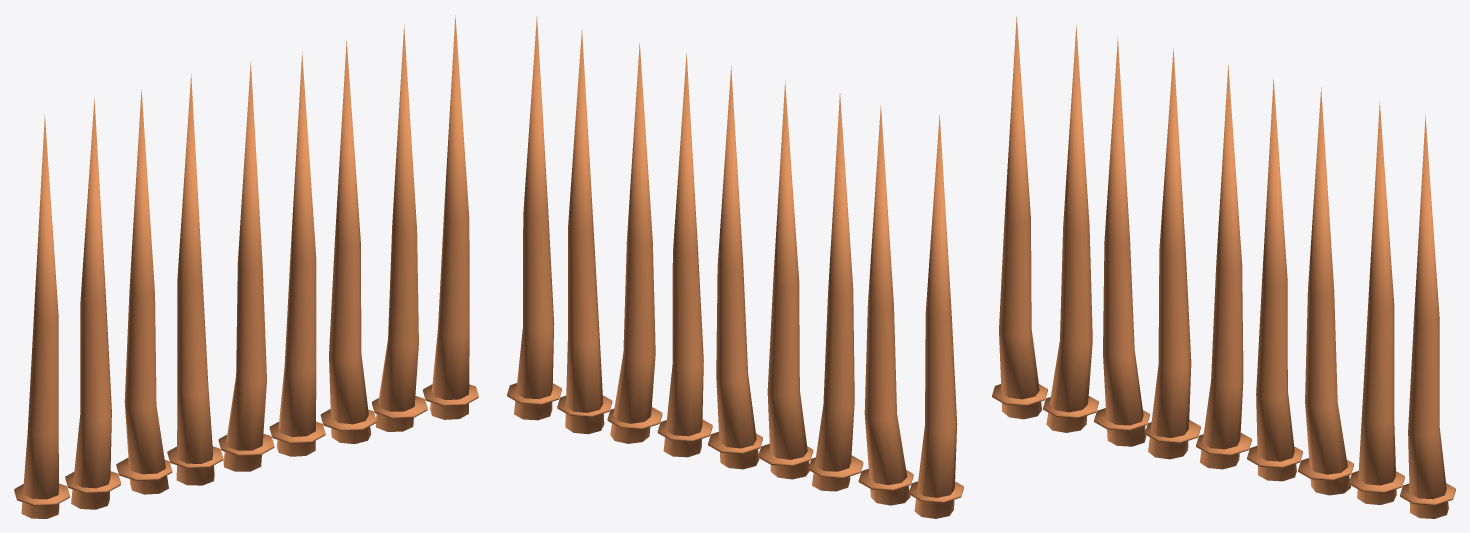
The model's file is pinchosp.obj.
3 renders of one model, left to right at view 1: azimuth 30°, elevation 25°; view 2: azimuth 150°, elevation 25°; view 3: azimuth 330°, elevation 25°, orthographic.
Parts seen in each view (by area): view 1: Cylinder075, Cylinder073, Cylinder070, Cylinder072, Cylinder071, Cylinder068, Cylinder074, Cylinder069, Cylinder076, Cylinder060, Cylinder065, Cylinder061 (+5 smaller); view 2: Cylinder076, Cylinder069, Cylinder070, Cylinder075, Cylinder072, Cylinder071, Cylinder073, Cylinder068, Cylinder074, Cylinder065, Cylinder064, Cylinder059 (+4 smaller); view 3: Cylinder073, Cylinder075, Cylinder070, Cylinder074, Cylinder076, Cylinder072, Cylinder069, Cylinder068, Cylinder071, Cylinder060, Cylinder062, Cylinder067 (+5 smaller).
Boxes of the visible parts, x1=… form: Cylinder075: x1=71, y1=97, x2=111, y2=509; Cylinder073: x1=176, y1=73, x2=214, y2=485; Cylinder070: x1=329, y1=41, x2=371, y2=444; Cylinder072: x1=223, y1=61, x2=266, y2=471; Cylinder071: x1=276, y1=51, x2=316, y2=456; Cylinder068: x1=430, y1=15, x2=469, y2=419; Cylinder074: x1=124, y1=89, x2=168, y2=494; Cylinder069: x1=375, y1=24, x2=418, y2=431; Cylinder076: x1=21, y1=114, x2=59, y2=518; Cylinder060: x1=372, y1=396, x2=427, y2=418; Cylinder065: x1=116, y1=458, x2=172, y2=481; Cylinder061: x1=320, y1=409, x2=376, y2=431; Cylinder076: x1=914, y1=115, x2=957, y2=518; Cylinder069: x1=565, y1=30, x2=604, y2=434; Cylinder070: x1=610, y1=42, x2=655, y2=443; Cylinder075: x1=864, y1=105, x2=910, y2=505; Cylinder072: x1=716, y1=65, x2=759, y2=469; Cylinder071: x1=663, y1=53, x2=703, y2=457; Cylinder073: x1=767, y1=80, x2=809, y2=479; Cylinder068: x1=514, y1=16, x2=554, y2=420; Cylinder074: x1=812, y1=93, x2=854, y2=491; Cylinder065: x1=808, y1=455, x2=863, y2=478; Cylinder064: x1=758, y1=444, x2=813, y2=466; Cylinder059: x1=507, y1=383, x2=561, y2=404; Cylinder073: x1=1148, y1=48, x2=1191, y2=459; Cylinder075: x1=1046, y1=25, x2=1092, y2=432; Cylinder070: x1=1305, y1=87, x2=1350, y2=495; Cylinder074: x1=1103, y1=37, x2=1146, y2=446; Cylinder076: x1=999, y1=16, x2=1041, y2=419; Cylinder072: x1=1199, y1=65, x2=1243, y2=469; Cylinder069: x1=1357, y1=101, x2=1396, y2=504; Cylinder068: x1=1408, y1=115, x2=1448, y2=518; Cylinder071: x1=1256, y1=79, x2=1296, y2=481; Cylinder060: x1=1349, y1=471, x2=1404, y2=492; Cylinder062: x1=1247, y1=446, x2=1302, y2=468; Cylinder067: x1=992, y1=384, x2=1047, y2=405.
Size of the model in its own units: 14.37 by 12 by 1.57.
